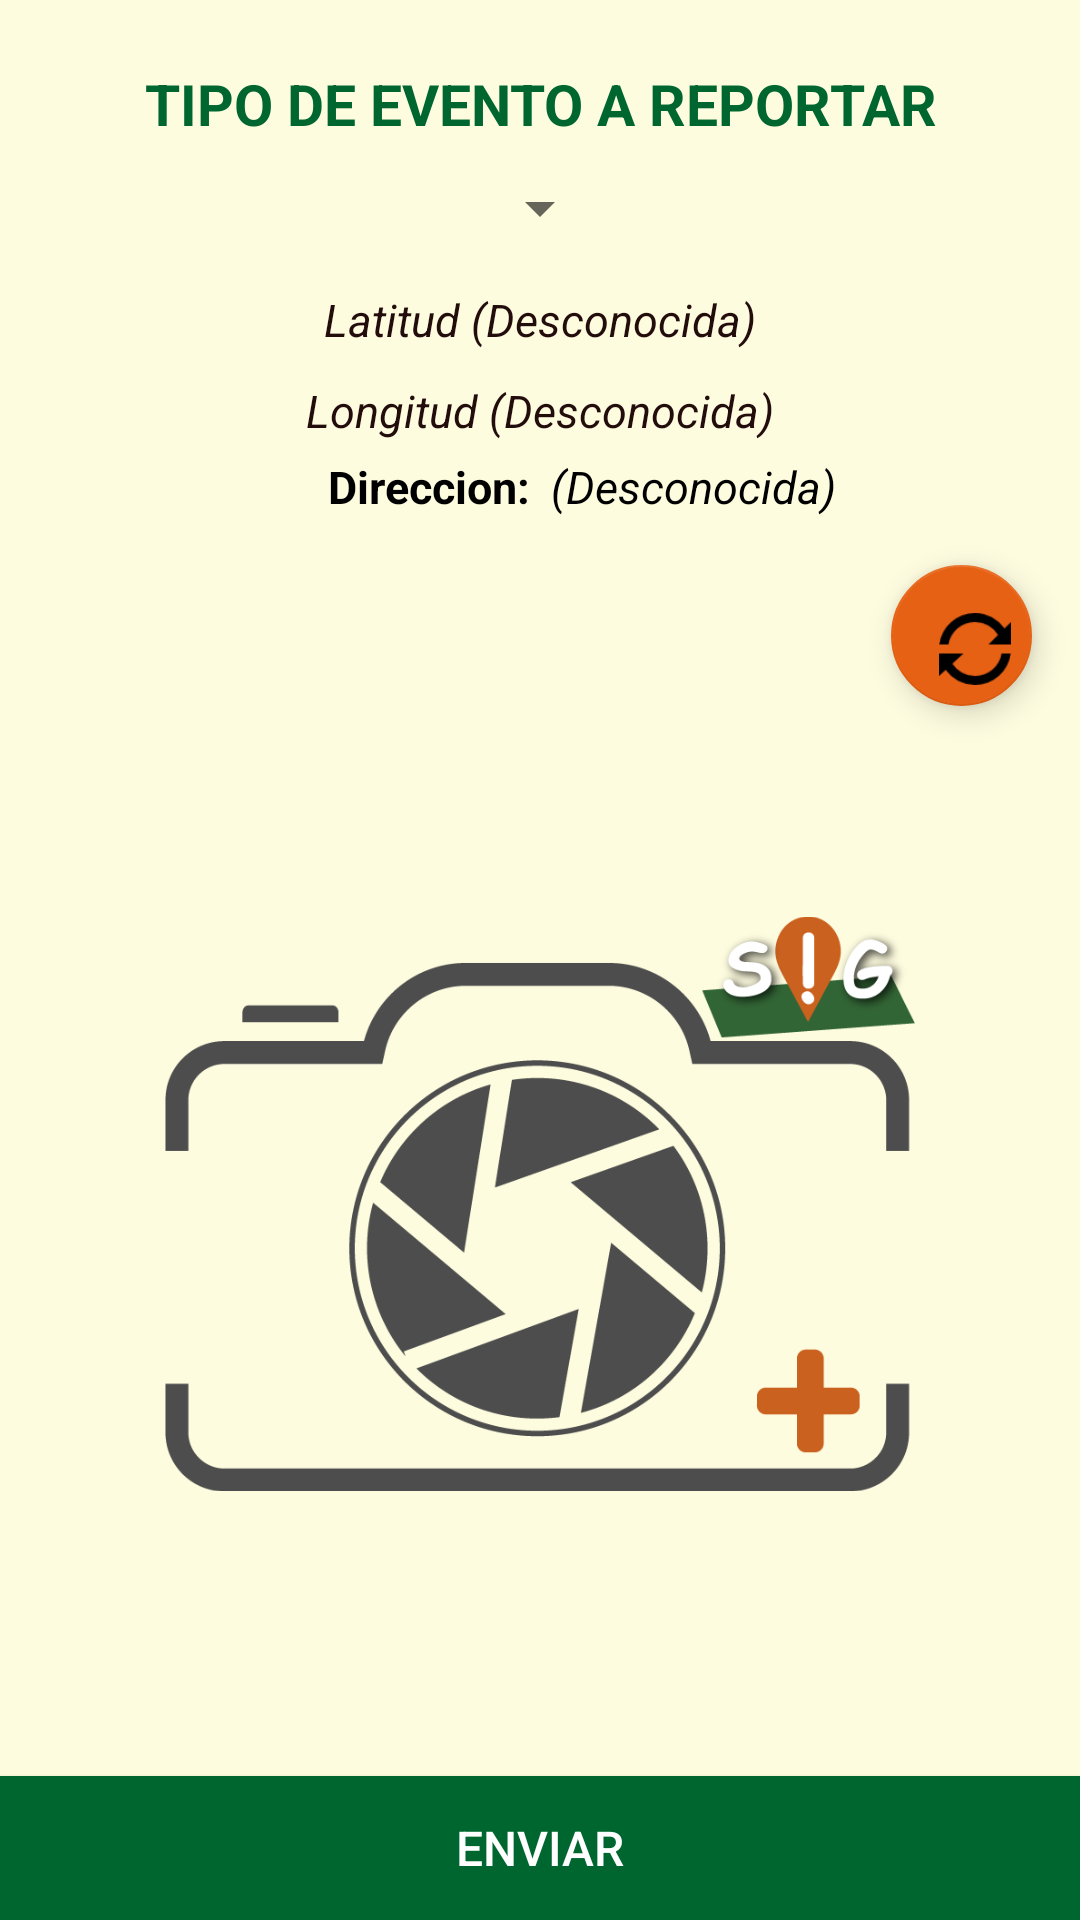

Locate icon controls on the screen. Image size 1080w x 1920h, boxes as (x1, y1, x2, y2).
refresh: (891, 565, 1032, 706)
